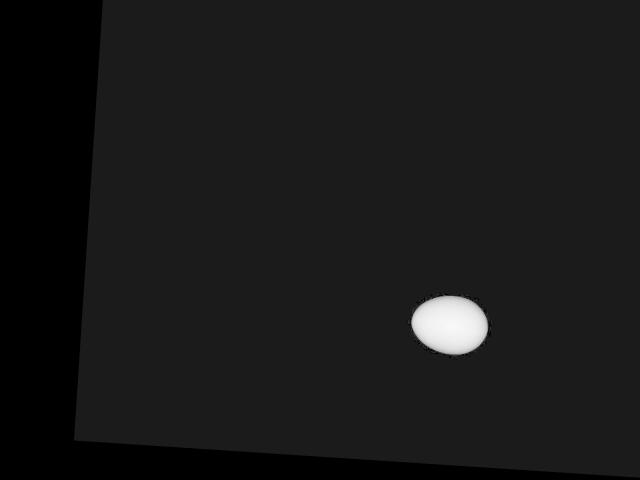egg: (410, 292, 489, 356)
